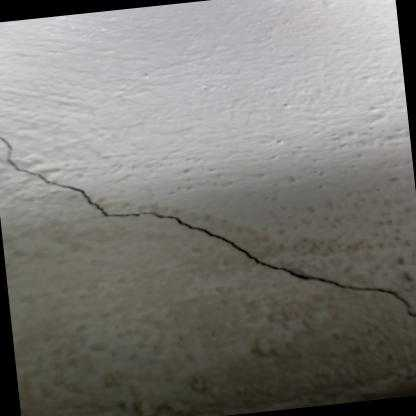crack: (0, 130, 416, 336)
